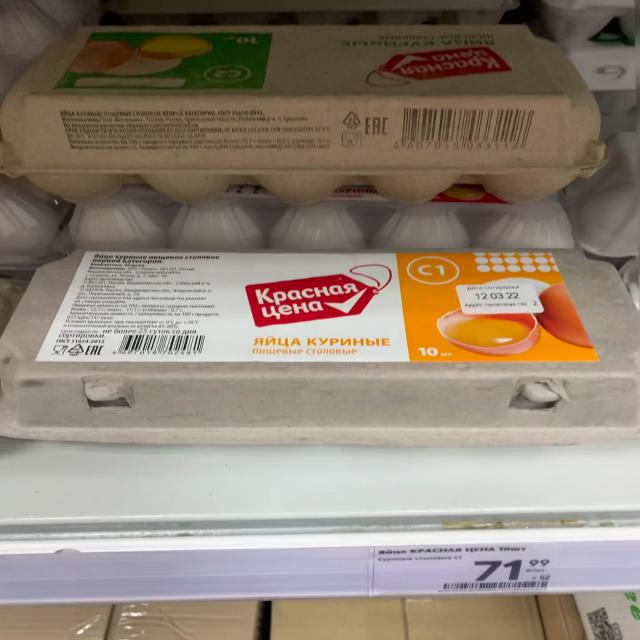egg box: (0, 239, 638, 449), (4, 16, 612, 211)
